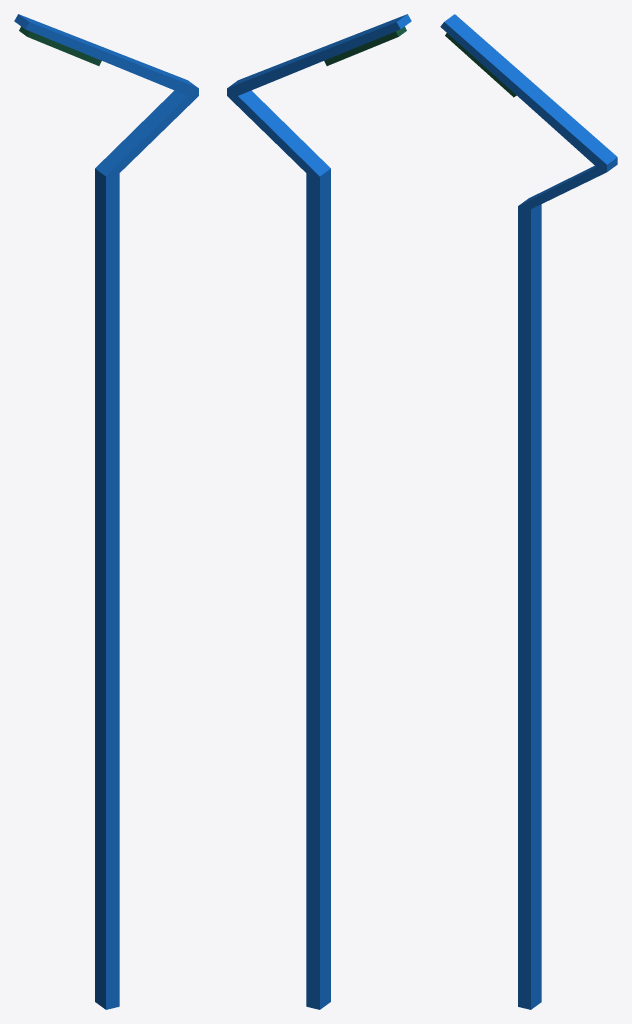
Rendered from T_street_lamp2.fbx.
3 views of the same model, side by side, from view 1: azimuth 30°, elevation 25°; view 2: azimuth 150°, elevation 25°; view 3: azimuth 330°, elevation 25° (orthographic). The views are drawn at different scales.
Parts seen in each view (by area): view 1: street_lamp2; view 2: street_lamp2; view 3: street_lamp2.
Boxes of the visible parts, left/top/right/bottom form: street_lamp2: left=14, top=14, right=198, bottom=1009; street_lamp2: left=227, top=14, right=411, bottom=1009; street_lamp2: left=440, top=14, right=617, bottom=1009.
Size of the model in its own units: 100 by 554 by 11.04.
